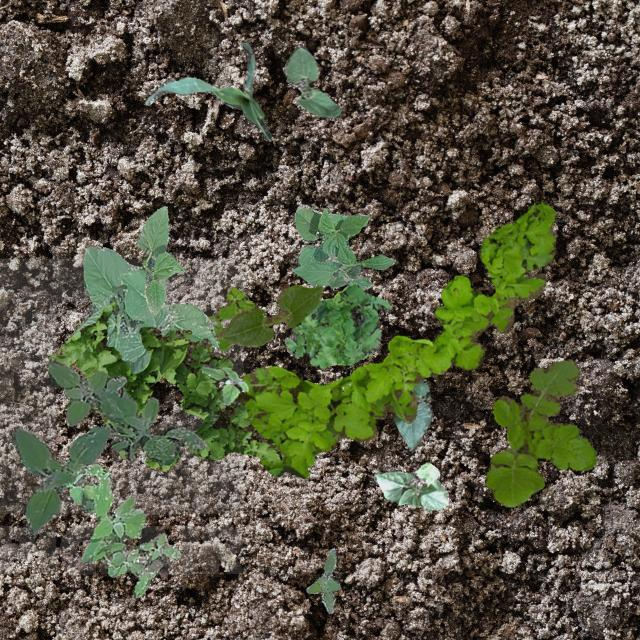crop: (66, 245, 218, 372), (144, 42, 270, 140), (292, 203, 394, 290), (218, 284, 322, 346), (136, 204, 182, 314), (282, 44, 342, 116), (372, 462, 448, 509), (394, 378, 432, 450), (294, 252, 360, 288)
weed: (234, 200, 556, 478), (48, 300, 282, 470), (10, 358, 206, 534), (484, 358, 596, 506), (64, 460, 180, 596), (284, 282, 391, 368), (208, 286, 254, 350), (306, 548, 340, 612), (200, 364, 248, 404)
